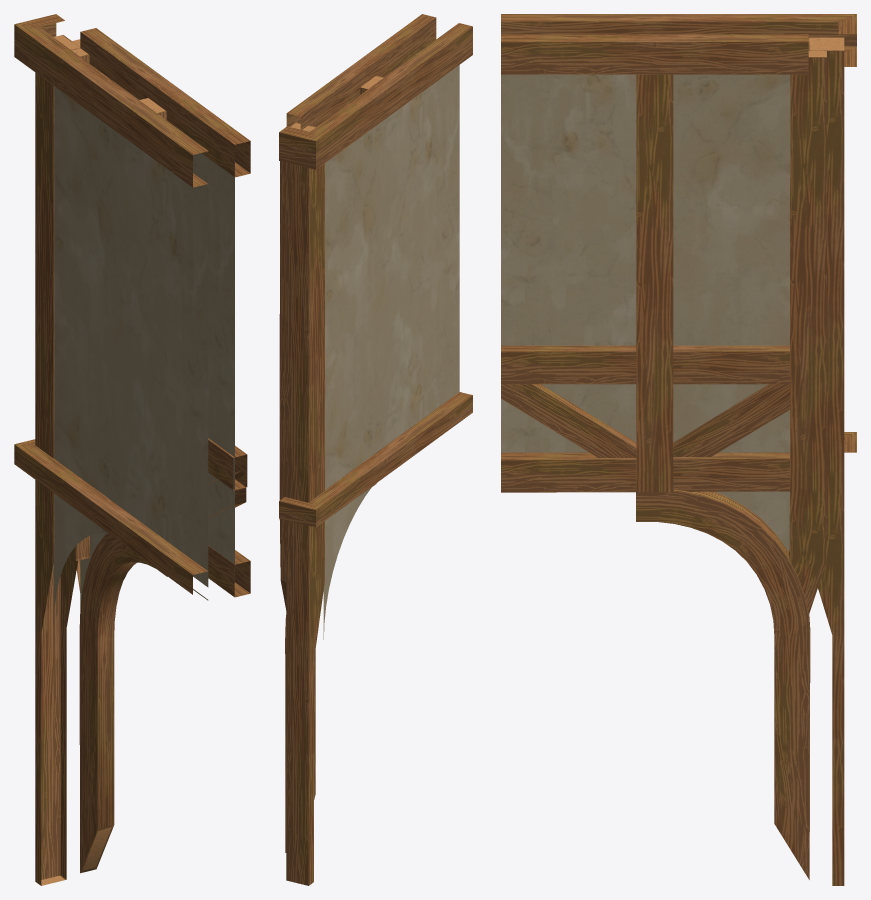
The model's file is Overhang_Side_Plaster_Long_R.gltf.
3 views of the same model, side by side, from view 1: azimuth 30°, elevation 25°; view 2: azimuth 150°, elevation 25°; view 3: azimuth 270°, elevation 25° (orthographic). The views are drawn at different scales.
Visible parts, largest first — view 1: Overhang_Side_Plaster_Long_R; view 2: Overhang_Side_Plaster_Long_R; view 3: Overhang_Side_Plaster_Long_R.
Part boxes in pixels (left/top/right/bottom): Overhang_Side_Plaster_Long_R: left=14, top=14, right=250, bottom=885; Overhang_Side_Plaster_Long_R: left=279, top=14, right=472, bottom=885; Overhang_Side_Plaster_Long_R: left=501, top=14, right=856, bottom=885.
Bounding box in the file's own units: 0.4793 × 6.12 × 2.31.
2 materials, 2 textured.
